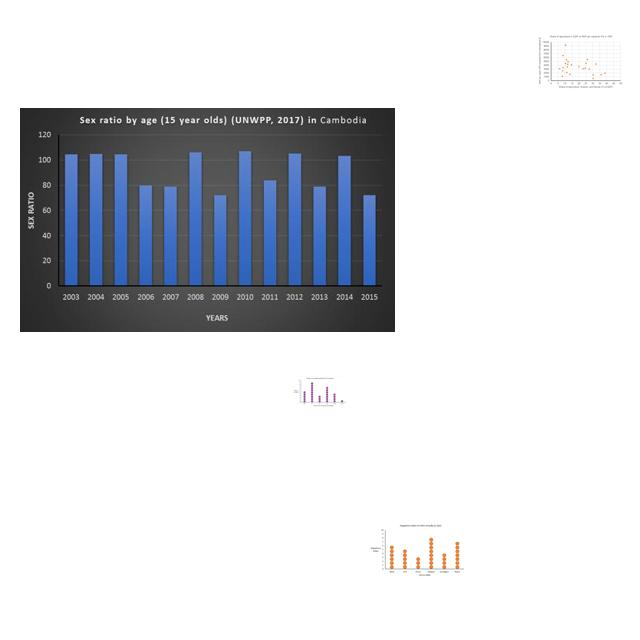Graph: (20, 108, 395, 332), (368, 523, 465, 579), (537, 32, 623, 90), (292, 376, 347, 408)
